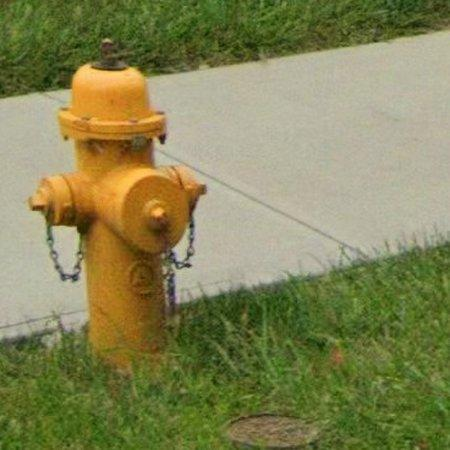a fire hydrant: (28, 41, 207, 369)
